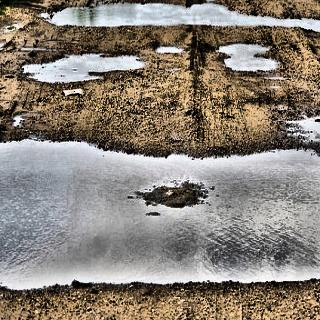pothole: (2, 125, 320, 294), (42, 1, 320, 32), (18, 46, 147, 90), (217, 38, 281, 76), (282, 112, 320, 145), (153, 39, 181, 57)
